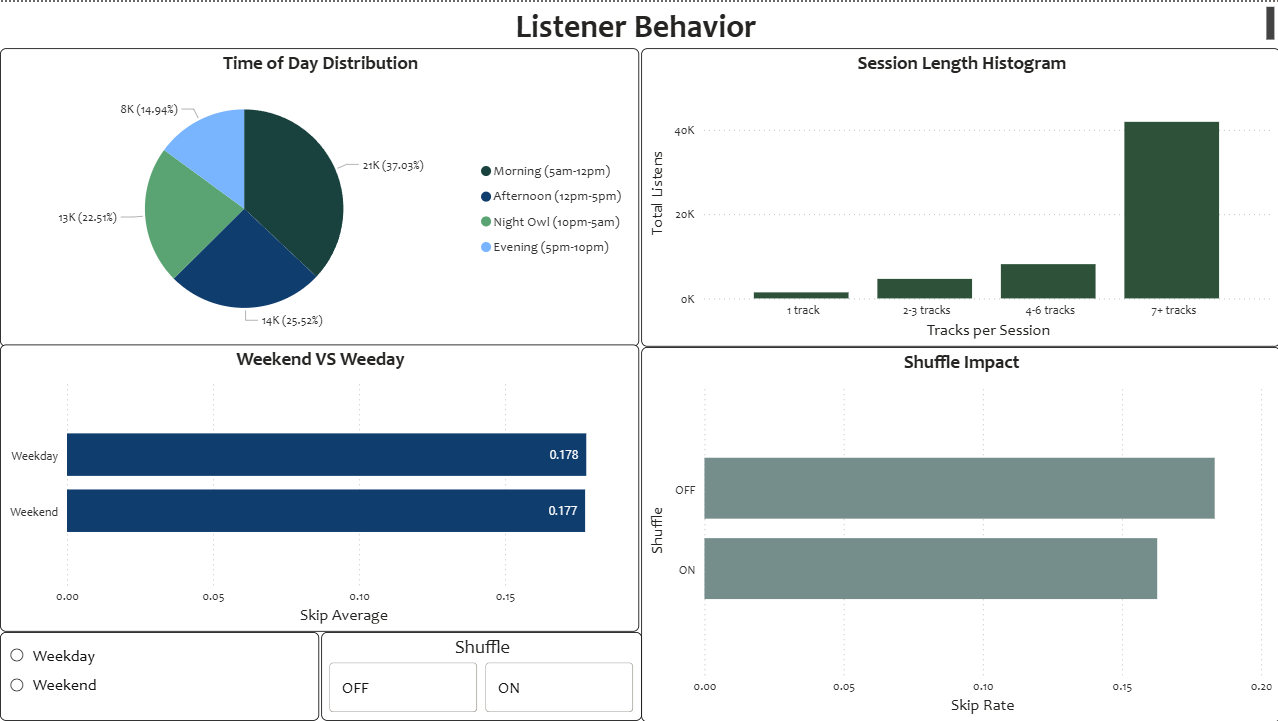

The page's visual inventory and layout, read from the dashboard file:
{"tool":"powerbi","page":{"name":"Listener Behavior","canvas":[1280,720],"ordinal":2},"visuals":[{"type":"textbox","box":[0,0,1279.5,46.2],"z":0},{"type":"pieChart","title":"Time of Day Distribution","fields":{"Category":["clean_spotify_data.time_of_day"],"Y":["clean_spotify_data.Total Listens"]},"box":[0,45.9,639.3,298.4],"z":1000},{"type":"clusteredColumnChart","title":"Session Length Histogram","fields":{"Category":["clean_spotify_data.Session Size Group"],"Y":["clean_spotify_data.Total Listens"]},"box":[641,45.9,639.3,298.4],"z":2000},{"type":"clusteredBarChart","title":"Weekend VS Weeday","fields":{"Category":["clean_spotify_data.is_weekend"],"Y":["Avg(clean_spotify_data.skipped)"]},"box":[0,343.1,638.9,287.5],"z":3000},{"type":"listSlicer","fields":{"Values":["clean_spotify_data.is_weekend"]},"box":[0,630.6,319.4,88.9],"z":4000},{"type":"advancedSlicerVisual","title":"Shuffle","fields":{"Values":["clean_spotify_data.is_shuffle"]},"box":[320.8,630.6,320.8,88.9],"z":5000},{"type":"clusteredBarChart","title":"Shuffle Impact","fields":{"Category":["clean_spotify_data.is_shuffle"],"Y":["clean_spotify_data.Skipped Rate"]},"box":[641.7,344.4,638.9,375],"z":6000}]}

Visuals, with their boxes in screenshot pixels (x1, y1, x2, y2), scaled from the page's 1280x720 canvas onto the 1278x721 screenshot:
textbox: <box>0,0,1277,46</box>
"Time of Day Distribution" pieChart: <box>0,46,638,345</box>
"Session Length Histogram" clusteredColumnChart: <box>640,46,1277,345</box>
"Weekend VS Weeday" clusteredBarChart: <box>0,344,638,631</box>
listSlicer - clean_spotify_data.is_weekend: <box>0,631,319,720</box>
"Shuffle" advancedSlicerVisual: <box>320,631,641,720</box>
"Shuffle Impact" clusteredBarChart: <box>641,345,1277,720</box>
